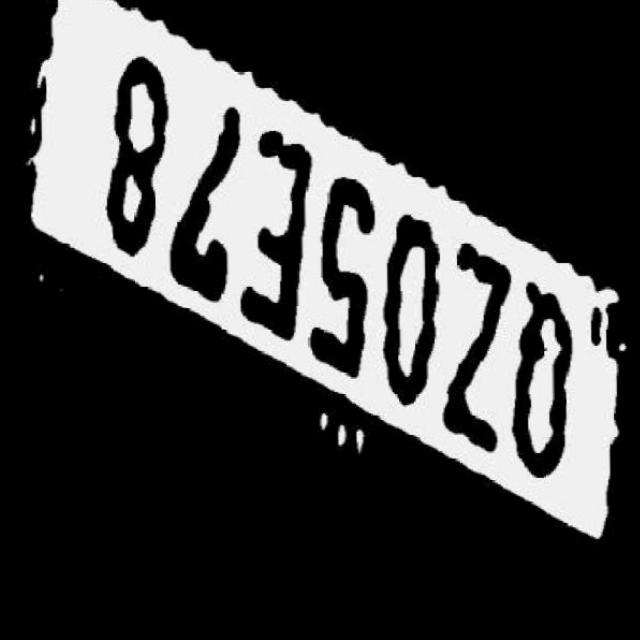5: (306, 174, 375, 385)
7: (163, 93, 245, 316)
8: (98, 43, 167, 256)
e: (239, 129, 305, 349)
o: (375, 215, 445, 416)
q: (514, 277, 577, 489)
z: (448, 251, 514, 462)
